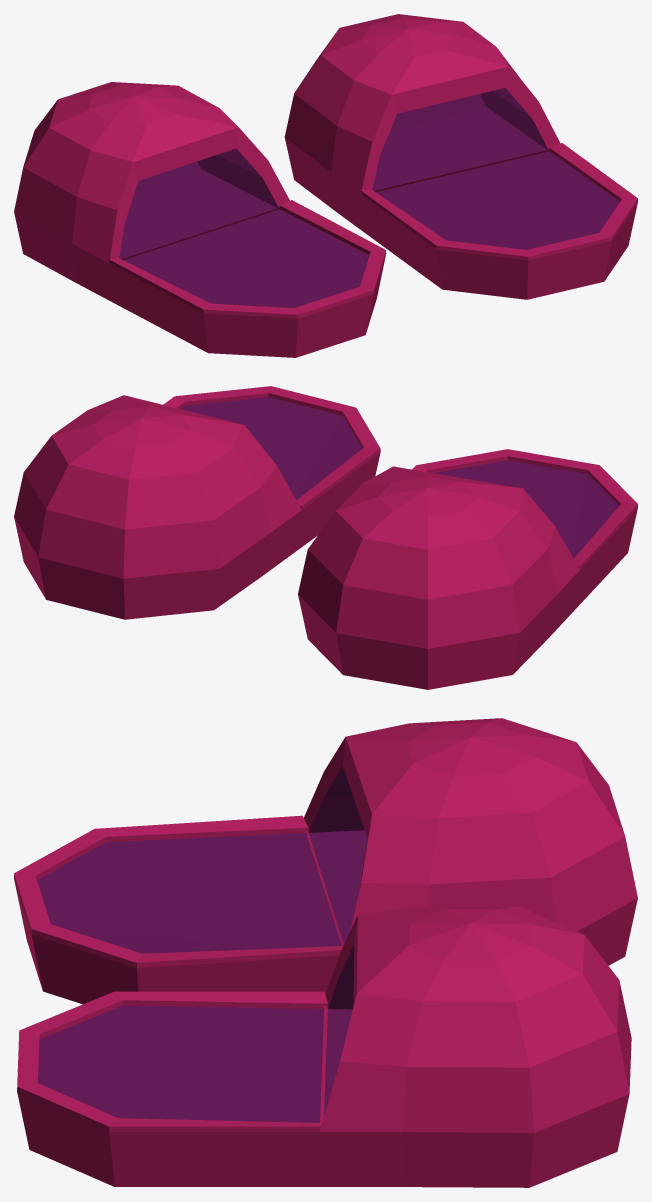
File: Prop_Slippers.fbx
3 views of the same model, one above another, from view 1: azimuth 30°, elevation 25°; view 2: azimuth 150°, elevation 25°; view 3: azimuth 270°, elevation 25° (orthographic). The views are drawn at different scales.
Visible parts, largest first — view 1: Sphere.017; view 2: Sphere.017; view 3: Sphere.017.
Boxes of the visible parts, x1=… form: Sphere.017: x1=14, y1=14, x2=637, y2=357; Sphere.017: x1=14, y1=386, x2=637, y2=689; Sphere.017: x1=14, y1=718, x2=637, y2=1187.
Size of the model in its own units: 46.45 by 13.47 by 37.75.
